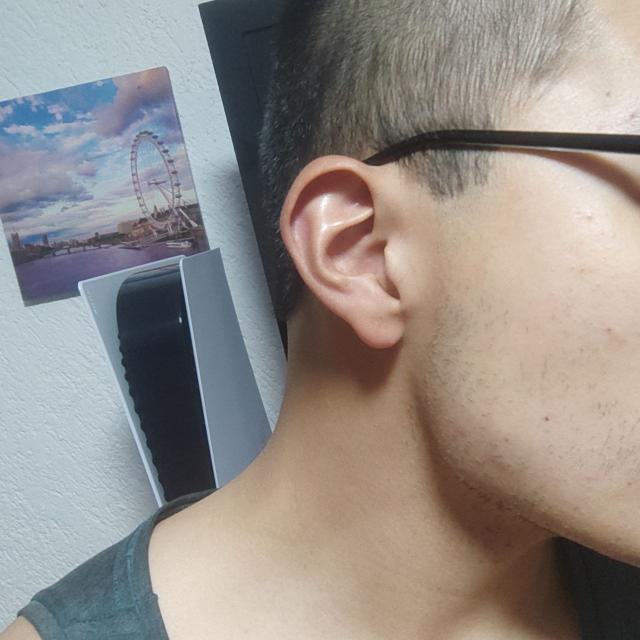ear: (281, 156, 404, 349)
